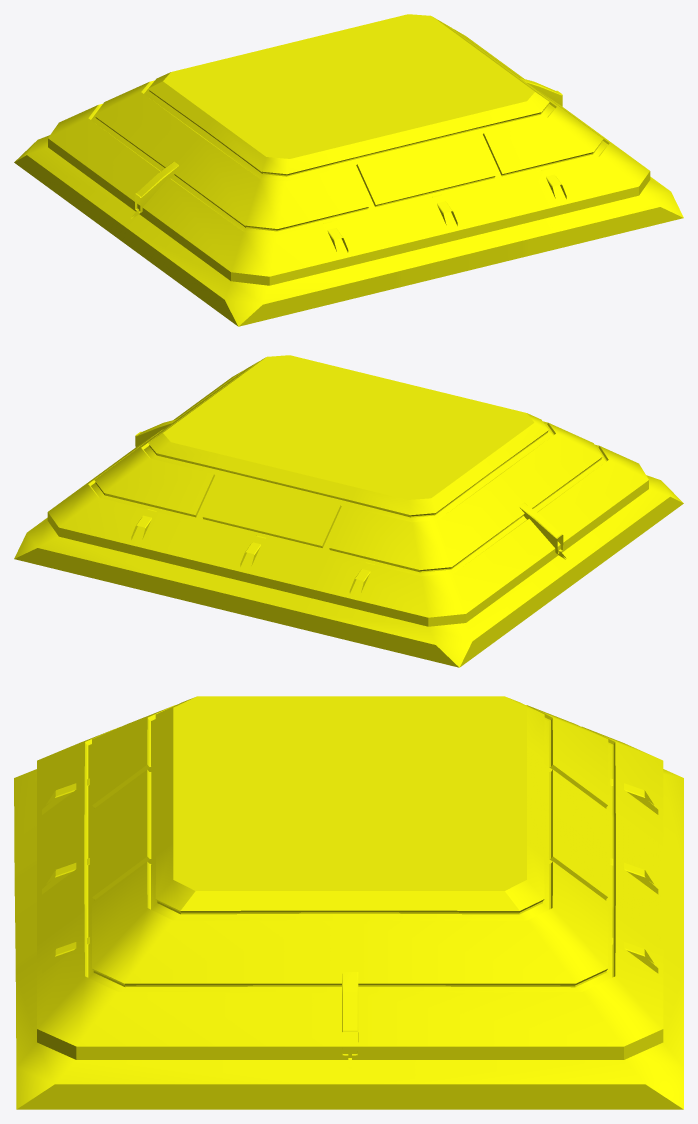
The model's file is Roof.fbx.
3 renders of one model, top to bottom at view 1: azimuth 30°, elevation 25°; view 2: azimuth 150°, elevation 25°; view 3: azimuth 270°, elevation 25°, orthographic. The views are drawn at different scales.
Parts seen in each view (by area): view 1: Roof; view 2: Roof; view 3: Roof.
Part boxes in pixels (x1,y1,x2,y2): Roof: (14, 14, 683, 326); Roof: (14, 355, 683, 667); Roof: (14, 696, 683, 1109).
Size of the model in its own units: 585 by 130 by 512.
